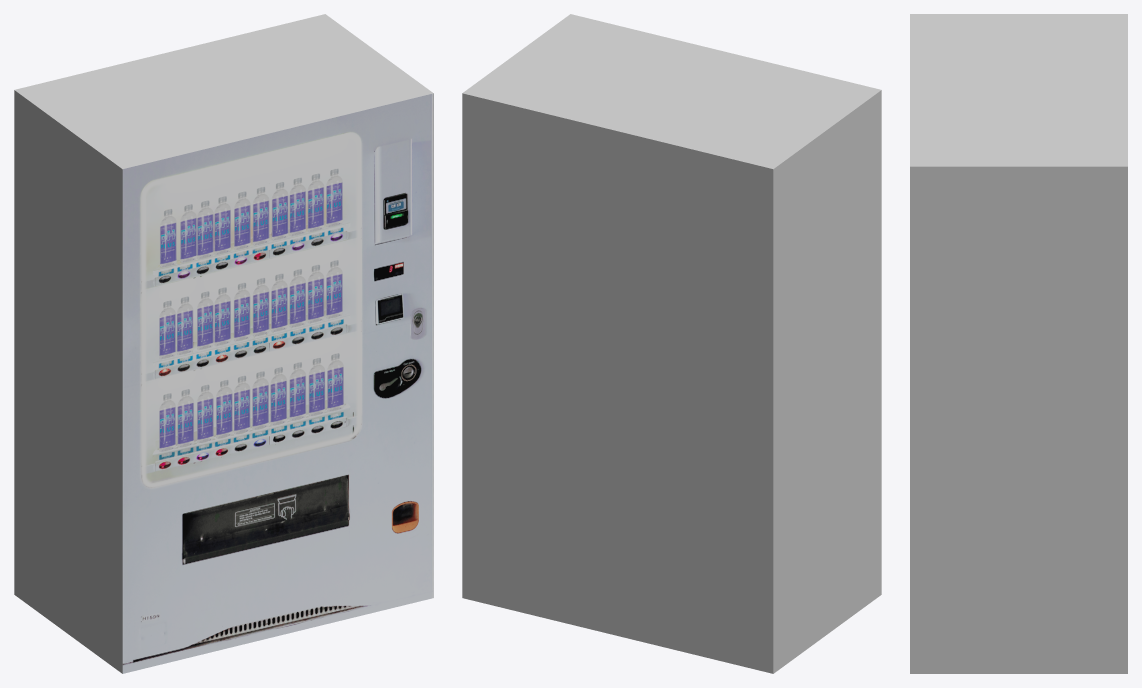
The model's file is vending.glb.
3 views of the same model, side by side, from view 1: azimuth 30°, elevation 25°; view 2: azimuth 150°, elevation 25°; view 3: azimuth 270°, elevation 25° (orthographic).
Visible parts, largest first — view 1: vending; view 2: vending; view 3: vending.
Boxes of the visible parts, x1,y1,x2,y2 form: vending: (14, 14, 433, 673); vending: (462, 14, 881, 673); vending: (910, 14, 1127, 673).
Bounding box in the file's own units: 120 × 186 × 72.37.
Materials: 2 (1 with a texture image).
